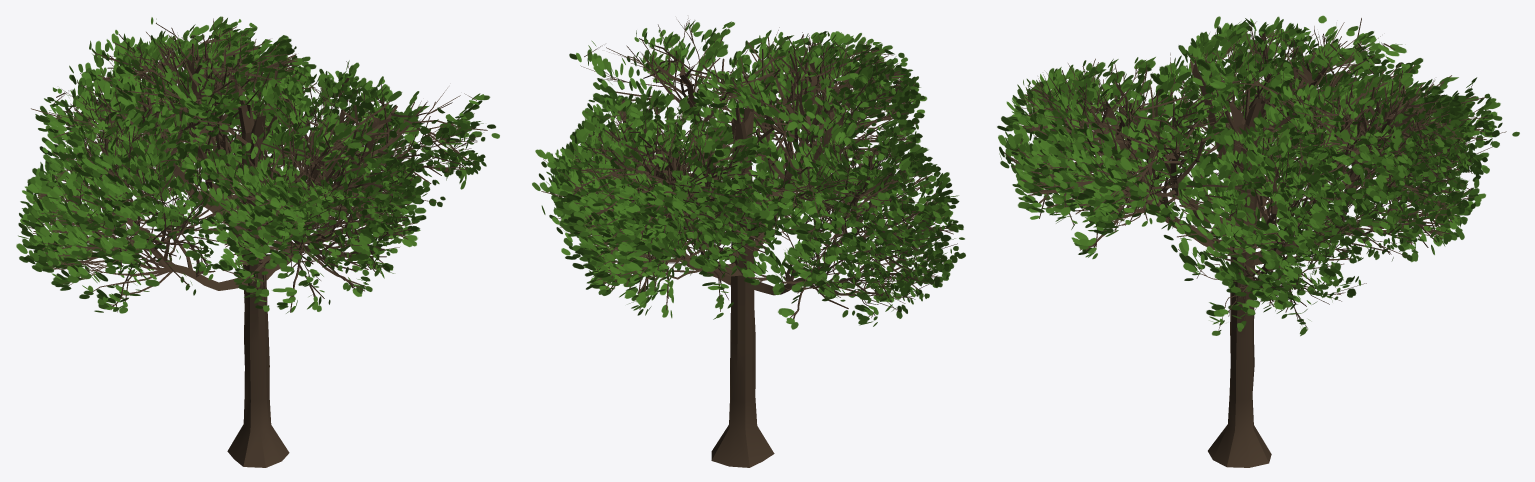
The picture shows the model from 3 angles, left to right: view 1: azimuth 30°, elevation 25°; view 2: azimuth 150°, elevation 25°; view 3: azimuth 270°, elevation 25°; orthographic projection. The views are drawn at different scales.
Parts seen in each view (by area): view 1: oak 01.001_trunk_Mat.001_0.111; view 2: oak 01.001_trunk_Mat.001_0.111; view 3: oak 01.001_trunk_Mat.001_0.111.
Boxes of the visible parts, bbox=[...] form: oak 01.001_trunk_Mat.001_0.111: bbox=[16, 16, 499, 467]; oak 01.001_trunk_Mat.001_0.111: bbox=[532, 18, 965, 467]; oak 01.001_trunk_Mat.001_0.111: bbox=[997, 15, 1519, 467].
Size of the model in its own units: 5.31 by 4.28 by 5.48.
Materials: 2 (1 with a texture image).
